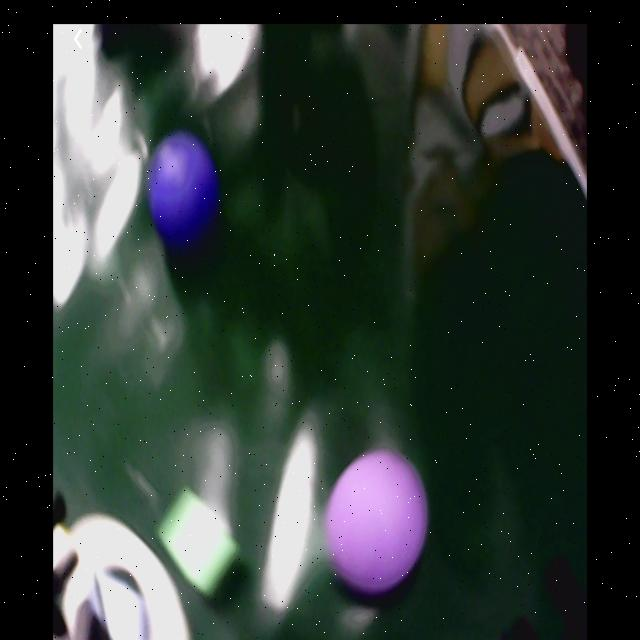ball: (332, 450, 428, 591), (147, 133, 215, 245)
